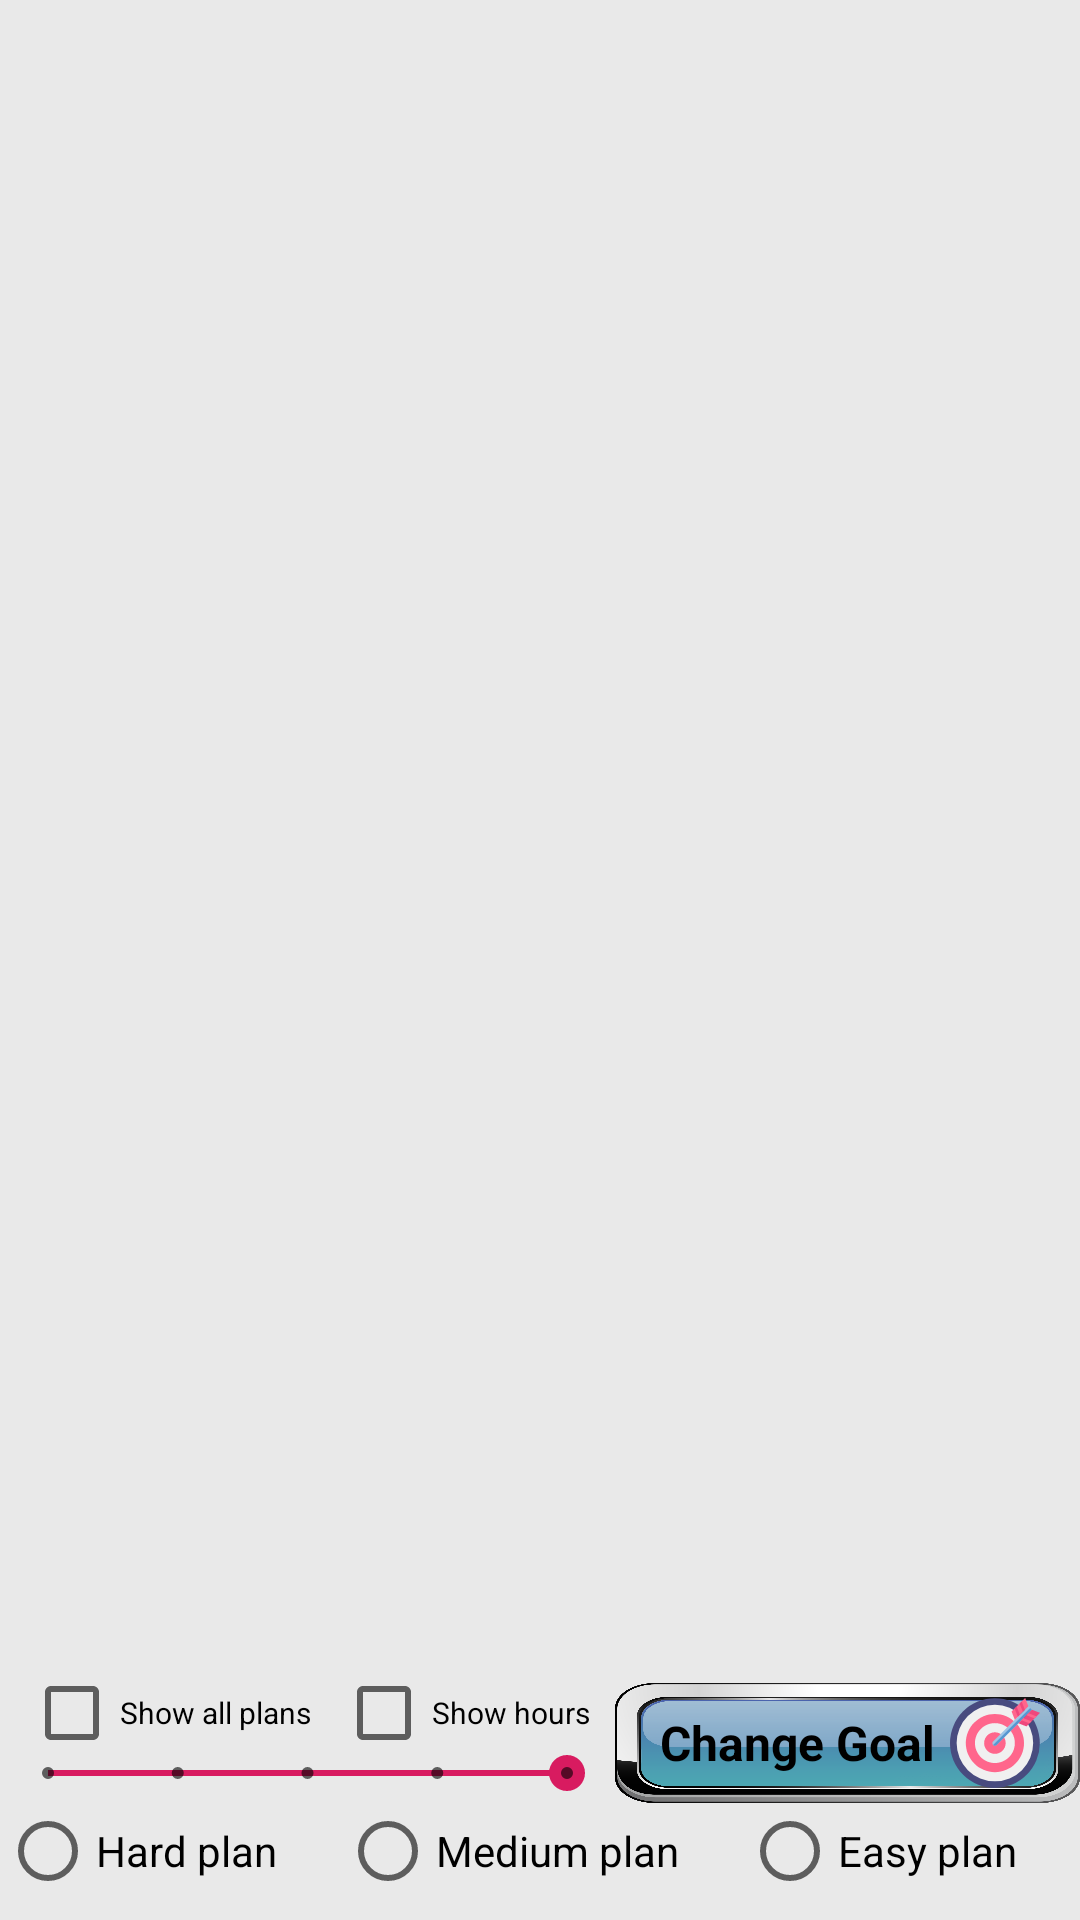

Icons on this 1080x1920 Android screen, each with the point to tap as point (x, y):
target: point (995, 1743)
